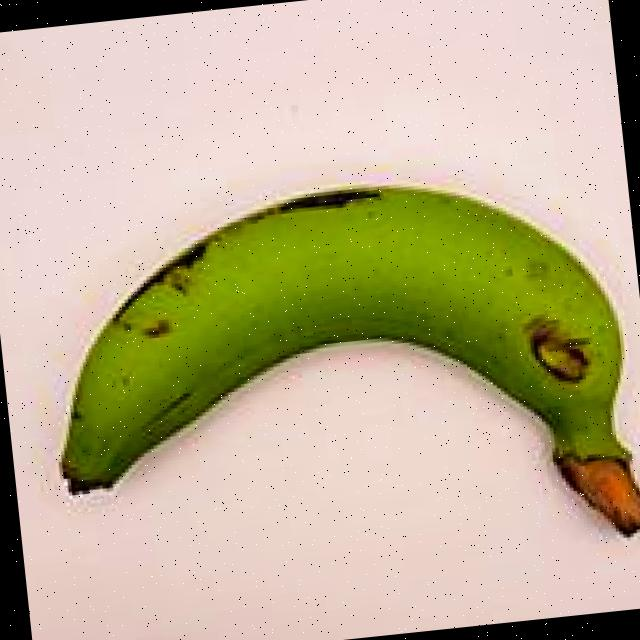Raw: (13, 139, 640, 610)
